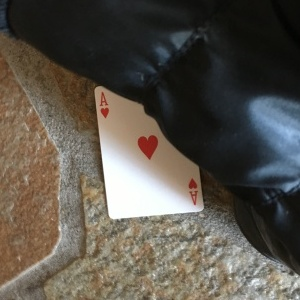card: (93, 81, 206, 219)
